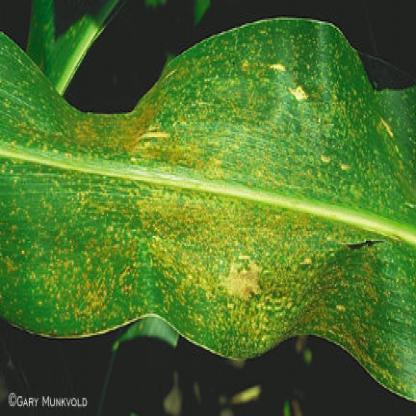Corn rust leaf: (1, 20, 415, 373)
